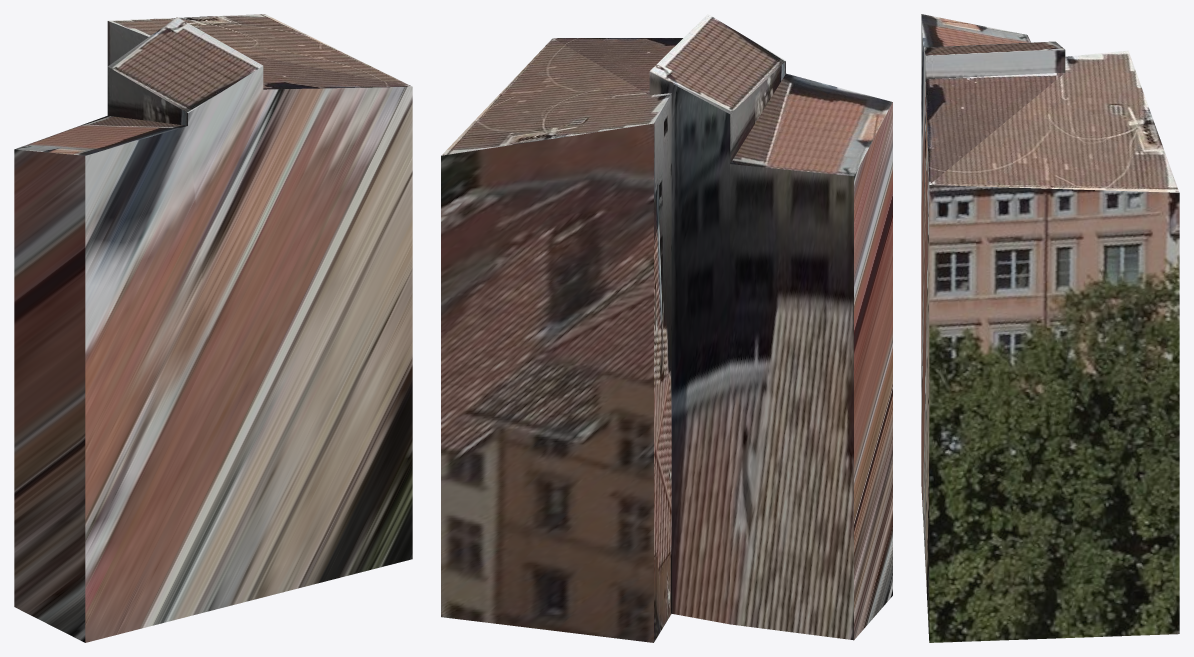
3 renders of one model, left to right at view 1: azimuth 30°, elevation 25°; view 2: azimuth 150°, elevation 25°; view 3: azimuth 270°, elevation 25°, orthographic. The views are drawn at different scales.
Parts seen in each view (by area): view 1: Z_UP; view 2: Z_UP; view 3: Z_UP.
Boxes of the visible parts, x1=… form: Z_UP: x1=14, y1=14, x2=412, y2=642; Z_UP: x1=441, y1=14, x2=892, y2=642; Z_UP: x1=921, y1=14, x2=1179, y2=642.
Bounding box in the file's own units: 15.78 × 23.05 × 10.46.
2 materials, 1 textured.
